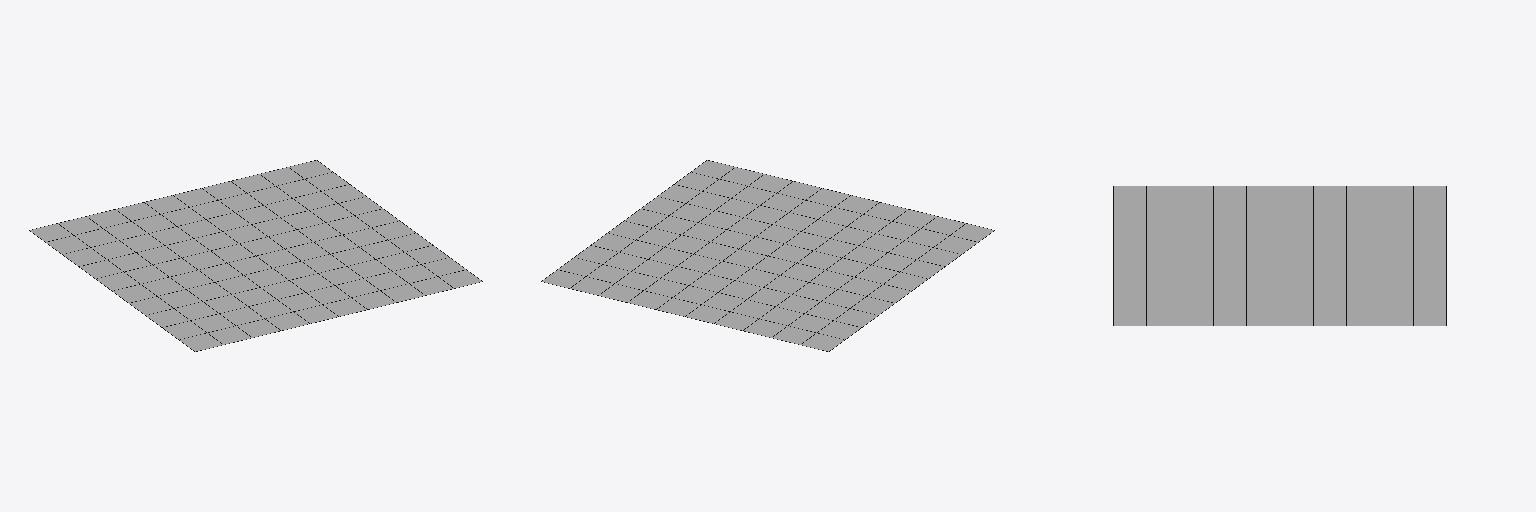
The picture shows the model from 3 angles: view 1: azimuth 30°, elevation 25°; view 2: azimuth 150°, elevation 25°; view 3: azimuth 270°, elevation 25°; orthographic projection.
Visible parts, largest first — view 1: Grid; view 2: Grid; view 3: Grid.
Boxes of the visible parts, x1=… form: Grid: x1=29, y1=160, x2=482, y2=351; Grid: x1=541, y1=160, x2=994, y2=351; Grid: x1=1113, y1=186, x2=1446, y2=325.
Bounding box in the file's own units: 20 × 0 × 20.
Materials: 1 (1 with a texture image).